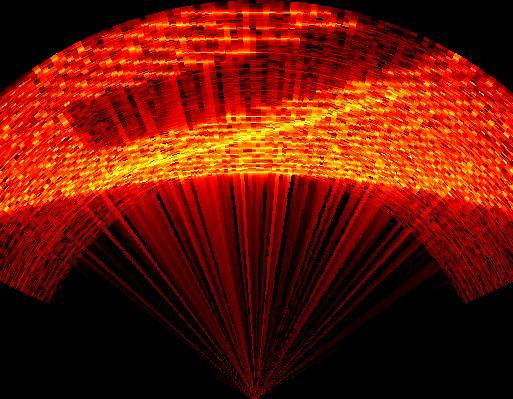pipe: (62, 20, 438, 152)
